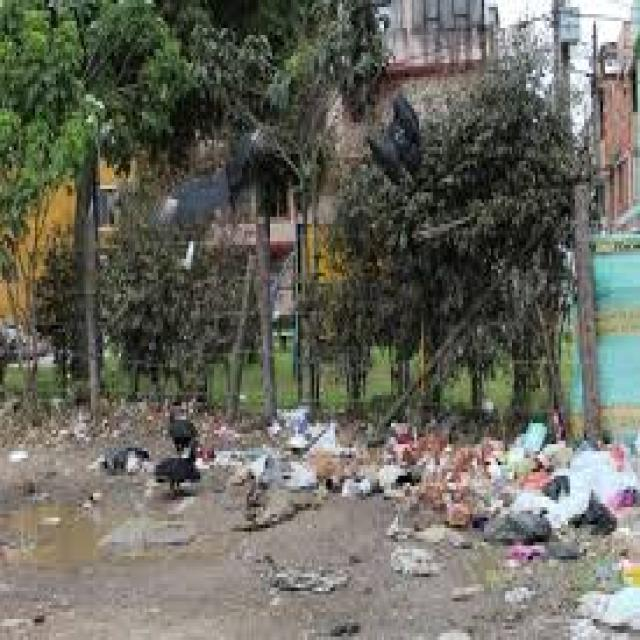garbage: (282, 393, 640, 564)
